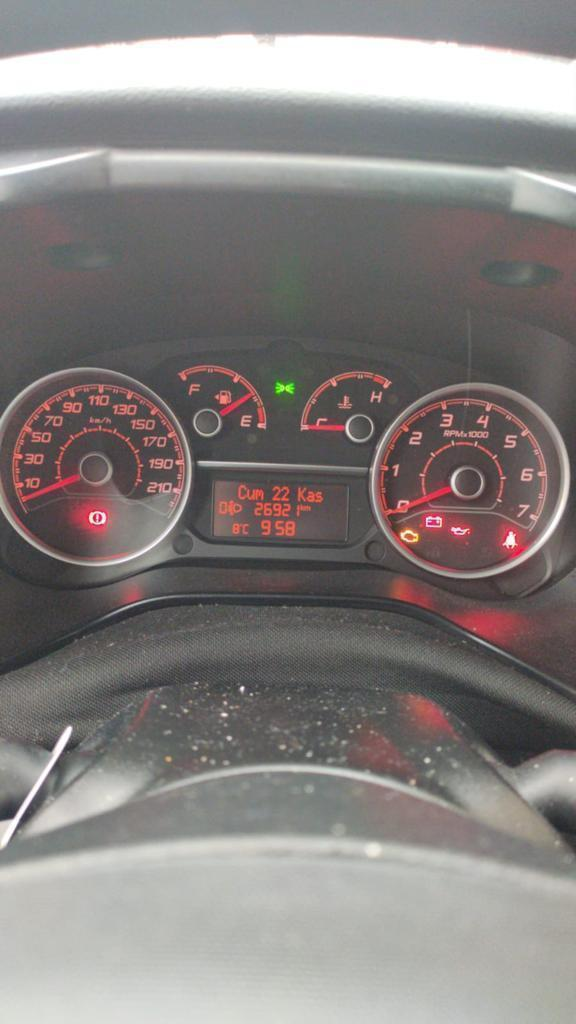0: (217, 500, 227, 514)
1: (295, 503, 299, 518)
2: (280, 485, 290, 501), (271, 485, 280, 501), (253, 501, 262, 516), (281, 503, 290, 517)
5: (273, 519, 284, 535)
6: (263, 501, 272, 516)
8: (285, 520, 295, 535), (232, 522, 239, 534)
9: (258, 519, 271, 535), (272, 502, 281, 517)
X: (236, 483, 247, 500), (297, 486, 306, 502), (246, 487, 255, 500), (314, 490, 323, 502), (256, 488, 264, 500), (306, 490, 314, 502), (242, 521, 249, 534), (304, 505, 312, 511), (300, 503, 305, 511)
odometer: (207, 476, 351, 546)
